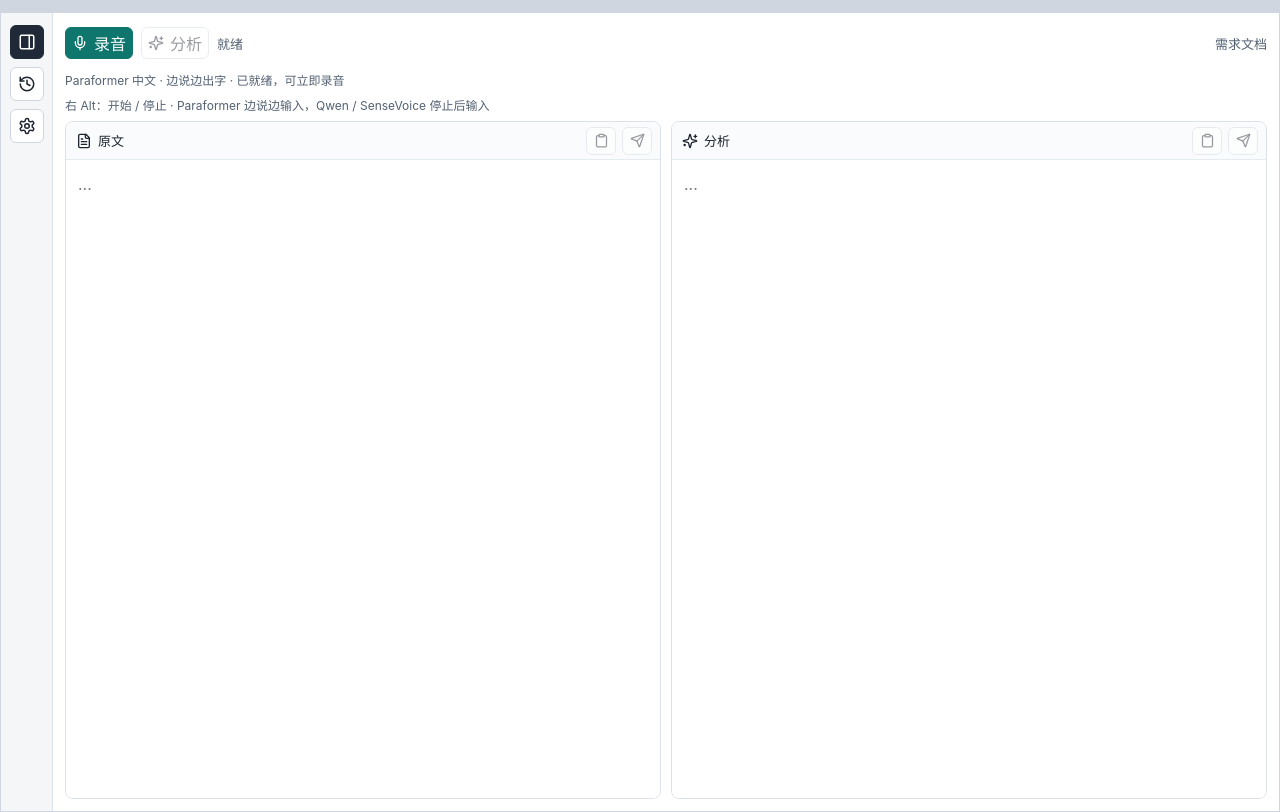
saves microphone choice and preserves it when a refresh no longer finds the device
Click the button titled "设置" at (26,126), box [10,109,44,143]
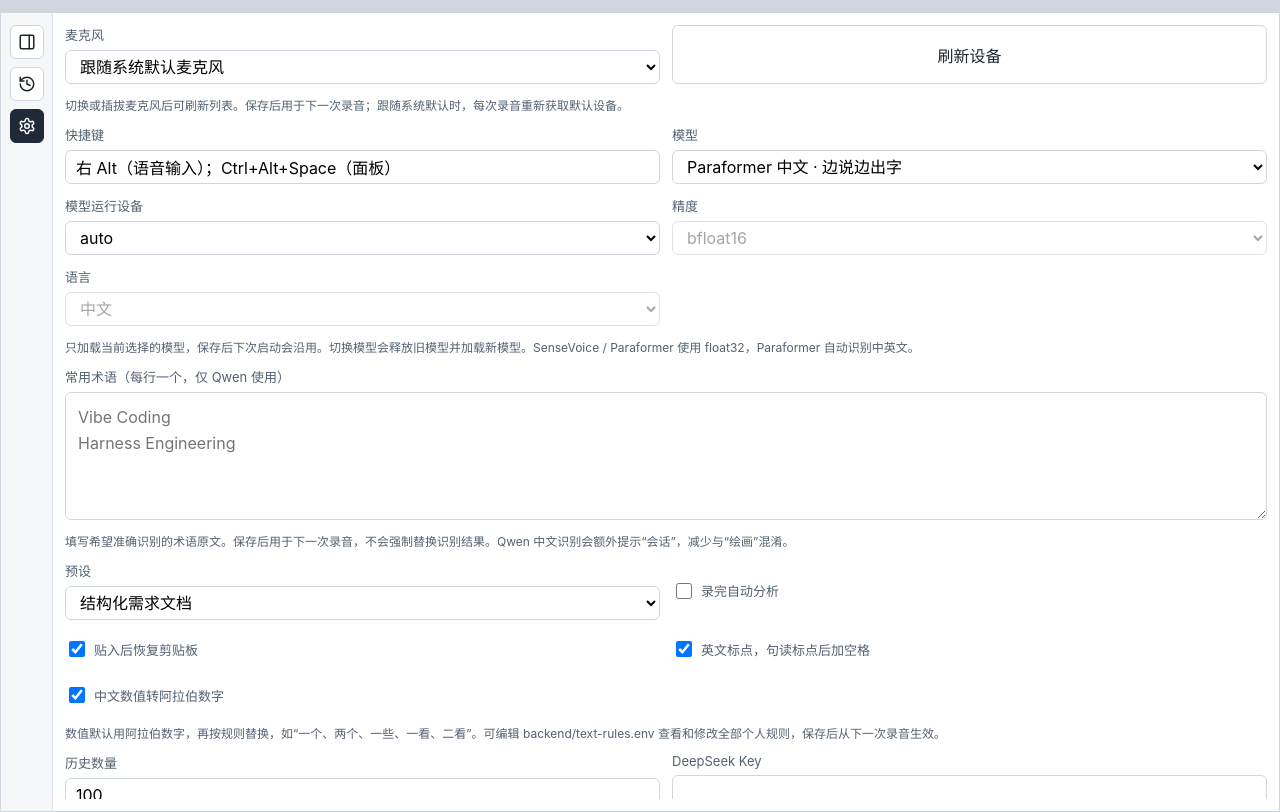
Select "USB Microphone" in the dropdown named "麦克风" at (362,67), box [65,50,660,84]
(page scrolled)
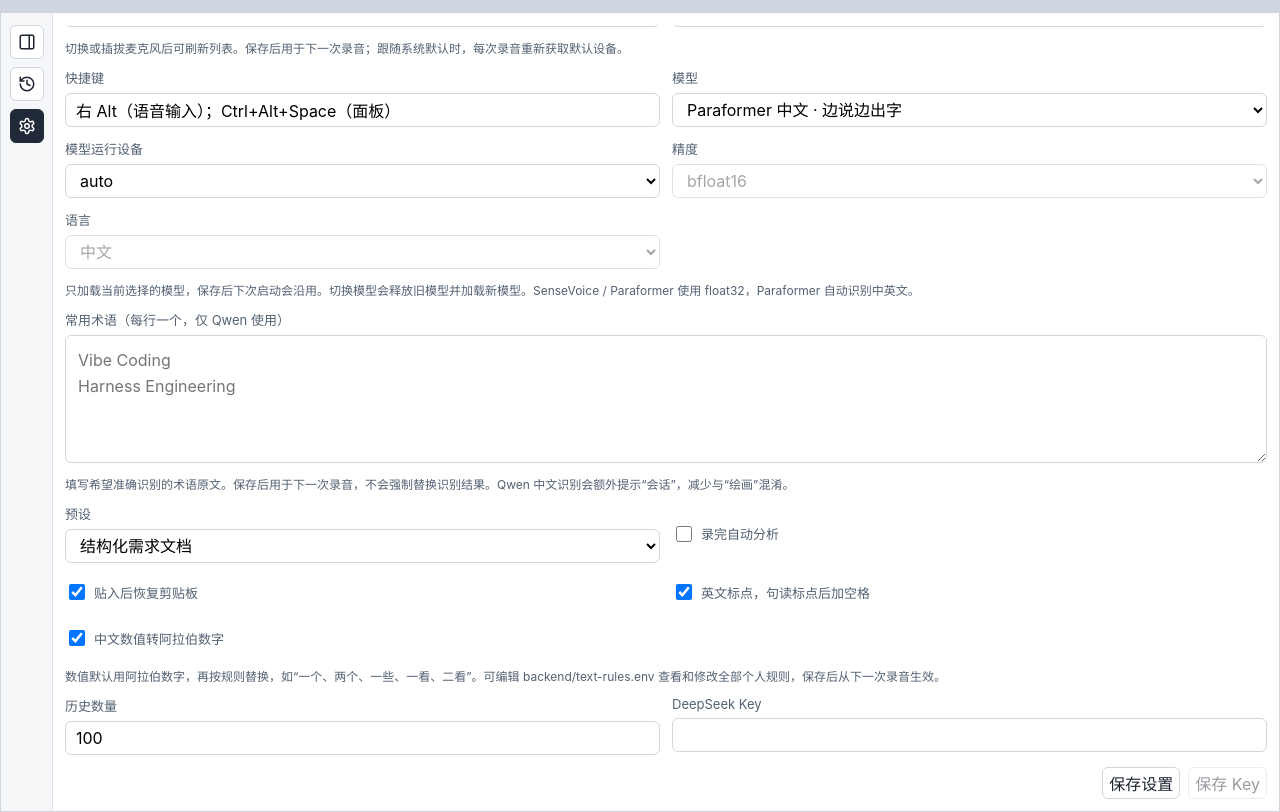
Click the button "保存设置" at (1141,783), box [1102,767,1180,799]
(page scrolled)
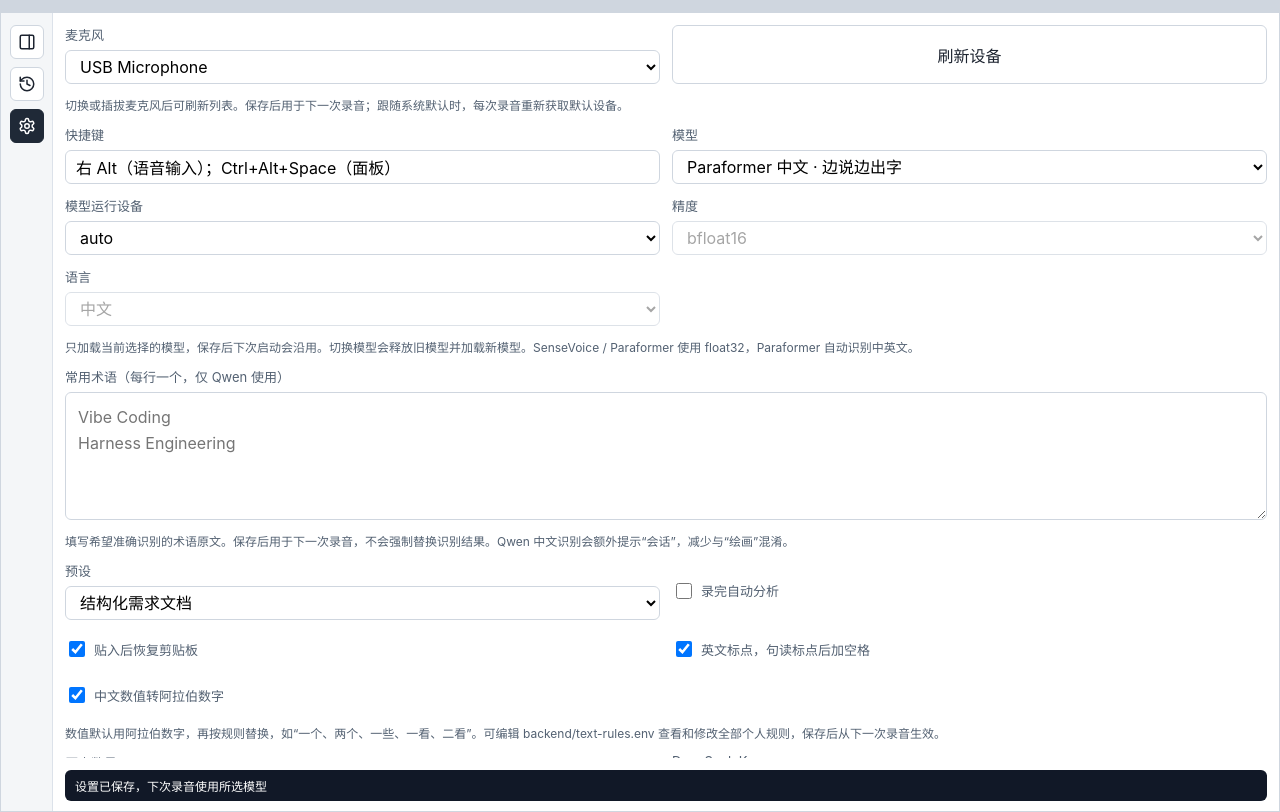
Click the button "刷新设备" at (970,54), box [672,25,1267,84]
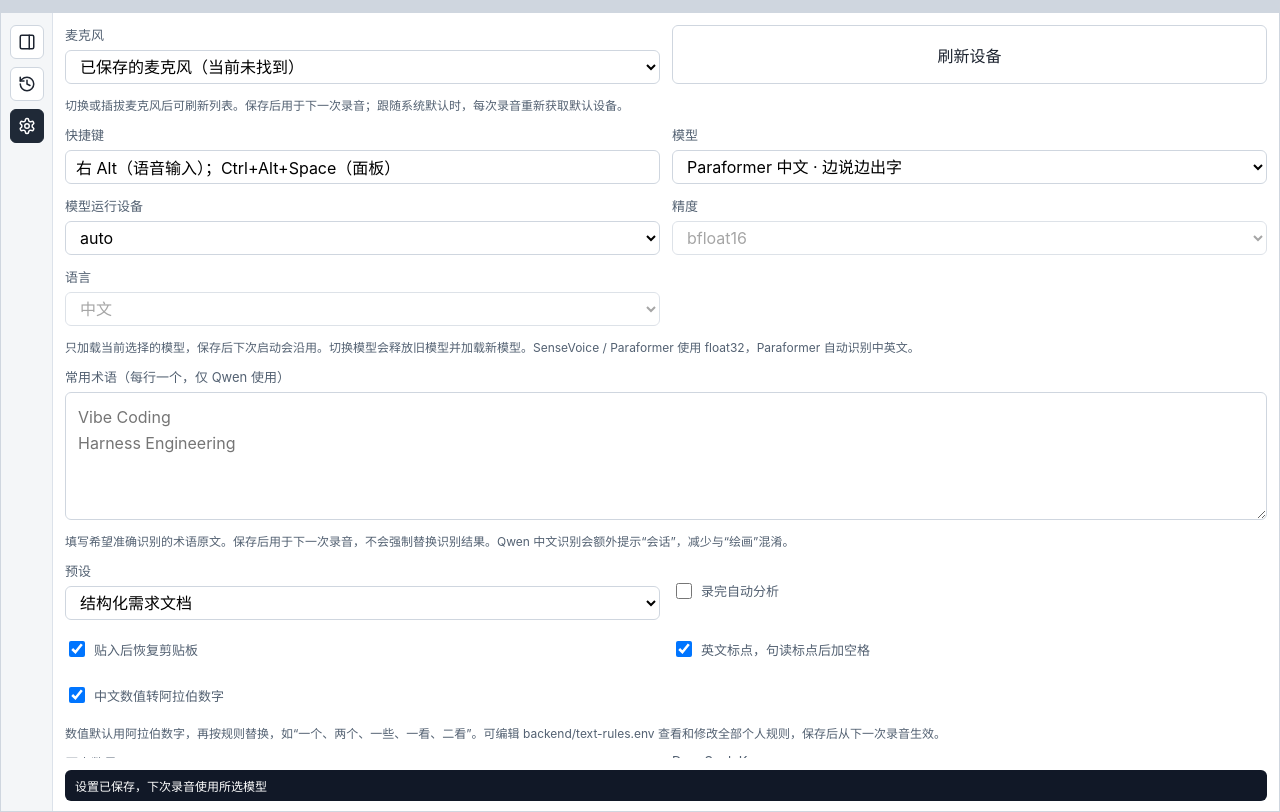
Click the button "刷新设备" at (970,54), box [672,25,1267,84]
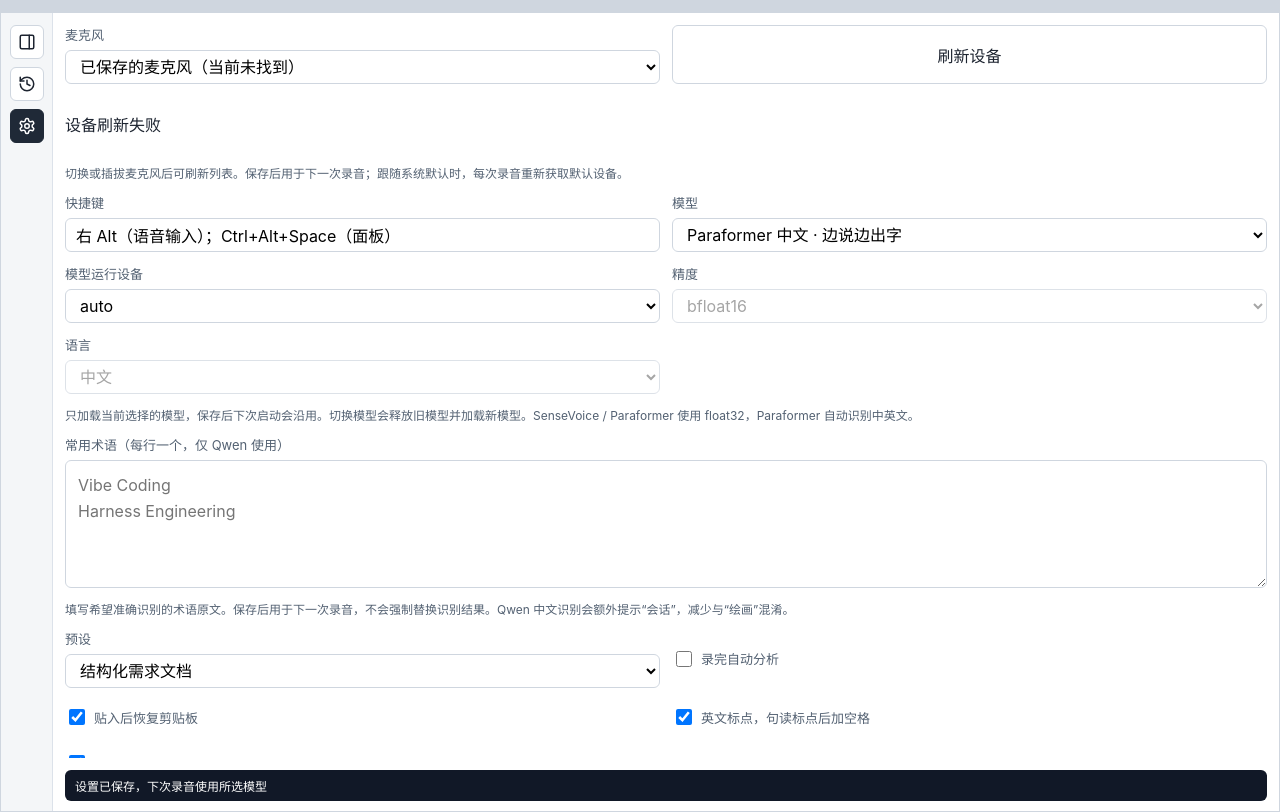
Expected: the message "设备刷新失败" is shown, [65,115,161,135]
